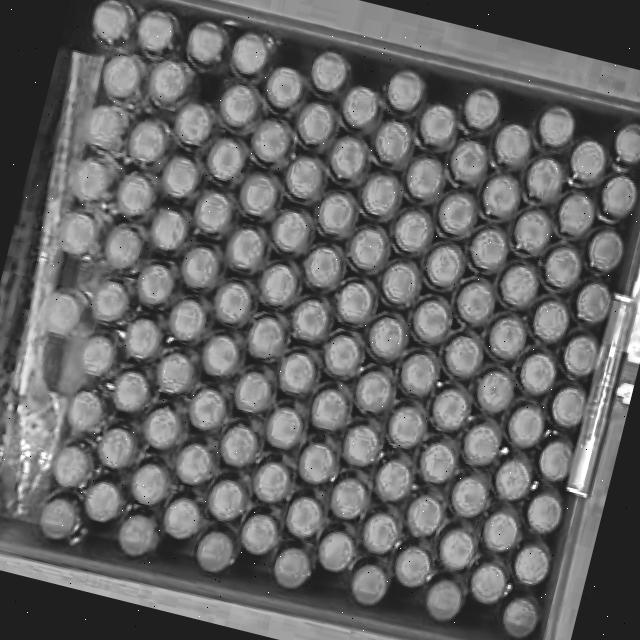vial: (179, 244, 221, 291), (308, 47, 349, 95), (510, 208, 552, 253), (205, 137, 246, 183), (167, 296, 208, 342), (269, 208, 311, 252), (295, 101, 335, 147), (251, 119, 290, 166), (89, 0, 130, 44), (101, 54, 142, 98), (329, 475, 370, 519), (225, 227, 265, 272), (386, 67, 426, 112), (505, 406, 545, 451), (102, 226, 143, 269), (425, 245, 466, 288), (239, 172, 279, 216), (481, 173, 521, 217), (277, 351, 317, 395), (233, 370, 272, 415), (174, 102, 212, 148), (161, 154, 199, 200), (349, 226, 387, 272), (300, 246, 341, 288), (265, 66, 306, 108), (186, 20, 226, 63), (215, 280, 254, 324), (449, 139, 488, 183), (292, 297, 330, 342), (438, 190, 476, 235), (336, 280, 374, 325), (247, 314, 285, 359), (464, 86, 501, 132), (316, 192, 356, 234), (218, 85, 257, 128), (163, 496, 202, 539), (265, 407, 304, 450), (285, 157, 323, 201), (341, 84, 379, 128), (418, 103, 456, 147), (130, 462, 168, 506), (375, 459, 413, 503), (272, 546, 310, 590), (187, 387, 224, 432), (128, 120, 168, 161), (229, 32, 268, 74), (487, 317, 526, 359), (136, 9, 174, 52), (84, 103, 122, 146), (373, 121, 411, 164), (469, 229, 507, 272), (412, 298, 450, 341), (156, 350, 194, 393), (60, 210, 97, 254), (39, 496, 76, 540), (587, 228, 623, 273), (200, 337, 240, 377), (194, 192, 233, 233), (40, 294, 81, 333), (208, 479, 247, 520), (239, 514, 278, 555), (220, 424, 258, 466), (550, 385, 588, 427), (259, 263, 296, 306), (296, 441, 333, 484), (526, 157, 562, 201), (577, 281, 613, 325), (52, 444, 88, 488), (117, 172, 152, 217), (544, 247, 583, 287), (251, 462, 290, 502), (112, 371, 150, 412), (399, 353, 437, 394), (450, 476, 488, 517), (405, 158, 442, 200), (456, 282, 493, 324), (388, 407, 425, 449), (494, 459, 531, 501), (475, 369, 512, 411), (329, 137, 365, 180), (570, 139, 606, 182), (533, 299, 569, 342), (363, 511, 399, 554), (463, 424, 499, 467), (602, 175, 637, 219), (349, 565, 388, 604), (136, 264, 173, 305), (393, 210, 430, 251), (495, 123, 532, 164), (368, 318, 405, 359), (97, 426, 134, 467), (285, 496, 322, 537), (482, 512, 519, 553), (526, 493, 563, 534), (150, 61, 186, 103), (538, 105, 574, 147), (118, 515, 154, 557), (356, 371, 392, 413), (431, 388, 467, 430), (501, 597, 536, 640), (500, 266, 538, 305), (72, 160, 109, 200), (361, 175, 398, 215), (176, 445, 213, 485), (418, 442, 455, 482), (445, 335, 481, 376), (562, 334, 598, 375), (143, 407, 179, 448), (537, 440, 573, 481), (407, 495, 442, 537), (382, 262, 416, 305), (94, 279, 128, 322), (344, 424, 378, 467), (81, 334, 114, 378), (151, 211, 187, 251), (68, 390, 103, 431), (197, 531, 232, 572), (325, 335, 360, 376), (85, 480, 119, 521), (520, 356, 556, 394), (318, 533, 354, 571), (312, 389, 346, 429), (440, 530, 474, 570), (428, 579, 461, 620), (560, 196, 593, 236), (395, 547, 428, 587), (472, 563, 505, 603), (127, 319, 158, 359), (516, 547, 549, 584), (615, 122, 640, 165)
